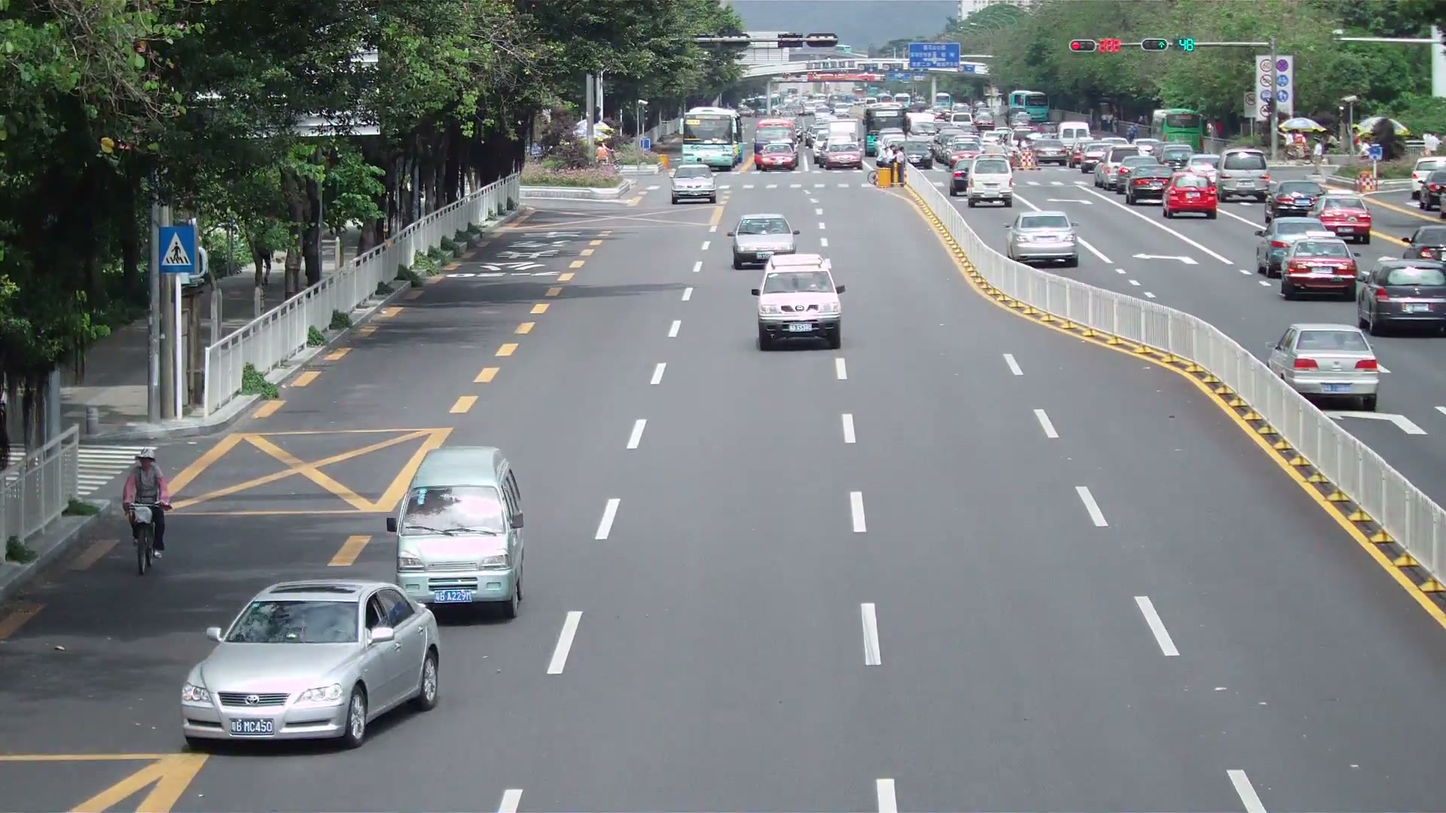bus: (682, 106, 744, 171)
car: (180, 577, 441, 751), (389, 445, 527, 621), (1267, 321, 1383, 410), (754, 254, 843, 351), (1354, 259, 1445, 336), (1254, 215, 1339, 277), (1279, 236, 1358, 300), (1007, 210, 1078, 268), (731, 213, 797, 269), (1162, 170, 1219, 220), (1316, 194, 1373, 243), (1408, 157, 1445, 209), (670, 165, 718, 204), (1405, 225, 1445, 263), (1125, 172, 1169, 205)
motorcycle: (127, 498, 165, 573)
pedestrian: (121, 450, 171, 557)
truck: (822, 113, 865, 170), (754, 126, 799, 171)
